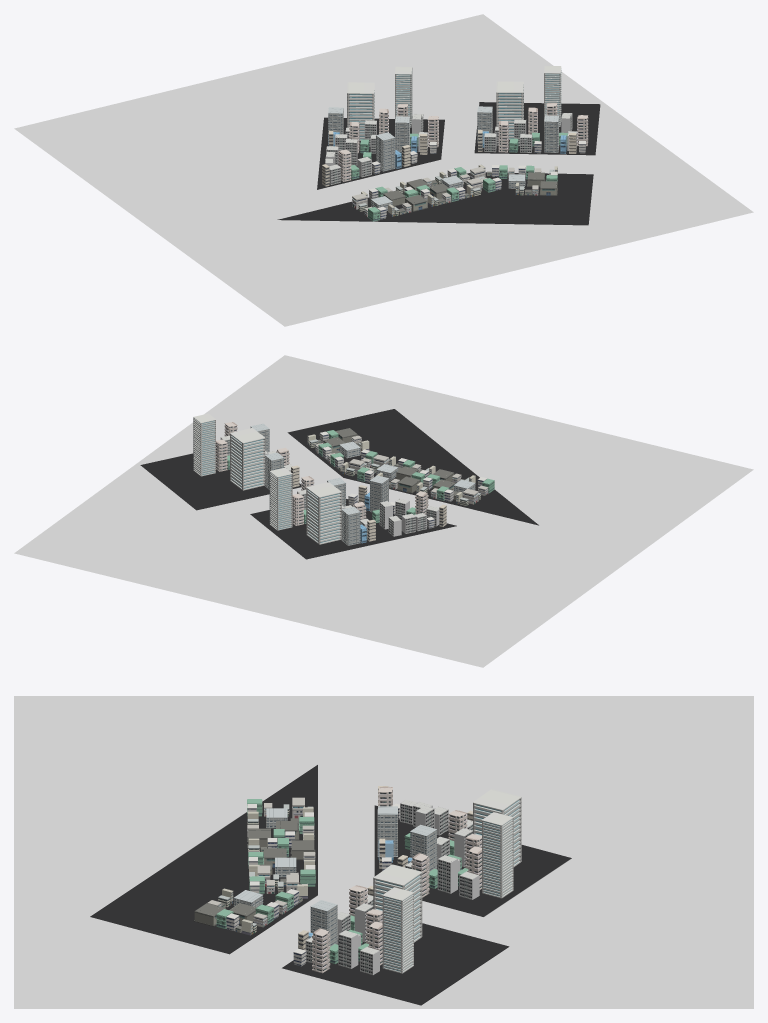
The model's file is test_map.fbx.
The picture shows the model from 3 angles, top to bottom: view 1: azimuth 30°, elevation 25°; view 2: azimuth 150°, elevation 25°; view 3: azimuth 270°, elevation 25°; orthographic projection. The views are drawn at different scales.
Parts seen in each view (by area): view 1: Plane.001, Plane.002, Building.020, Building.064, Building.033, Building.077, Building.088, Building.025; view 2: Plane.001, Plane.002, Building.064, Building.020, Building.077, Building.033, Building.056, Building.088; view 3: Plane.001, Plane.002, Building.033, Building.077, Building.020, Building.064, Building.025, Building.069, Building.088, Building.034, Building.035, Building.079 (+1 smaller).
Boxes of the visible parts, box(x1,y1,x2,y2) form: Plane.001: box(14, 14, 753, 326); Plane.002: box(277, 102, 600, 225); Building.020: box(496, 81, 523, 139); Building.064: box(347, 82, 374, 140); Building.033: box(544, 66, 561, 126); Building.077: box(395, 66, 412, 127); Building.088: box(376, 132, 395, 171); Building.025: box(544, 115, 559, 152); Plane.001: box(14, 355, 753, 667); Plane.002: box(140, 409, 538, 559); Building.064: box(306, 482, 341, 544); Building.020: box(230, 428, 265, 490); Building.077: box(269, 467, 292, 530); Building.033: box(193, 413, 215, 476); Building.056: box(341, 506, 360, 545); Building.088: box(370, 475, 388, 512); Plane.001: box(14, 696, 753, 1008); Plane.002: box(90, 765, 571, 1005); Building.033: box(382, 887, 413, 973); Building.077: box(482, 812, 513, 898); Building.020: box(373, 864, 422, 942); Building.064: box(473, 789, 521, 866); Building.025: box(310, 900, 337, 946); Building.069: box(410, 824, 437, 870); Building.088: box(377, 806, 397, 856); Building.034: box(312, 928, 330, 973); Building.035: box(338, 930, 358, 968); Building.079: box(437, 855, 457, 893).
Size of the model in its own units: 64986 by 7229 by 64986.
